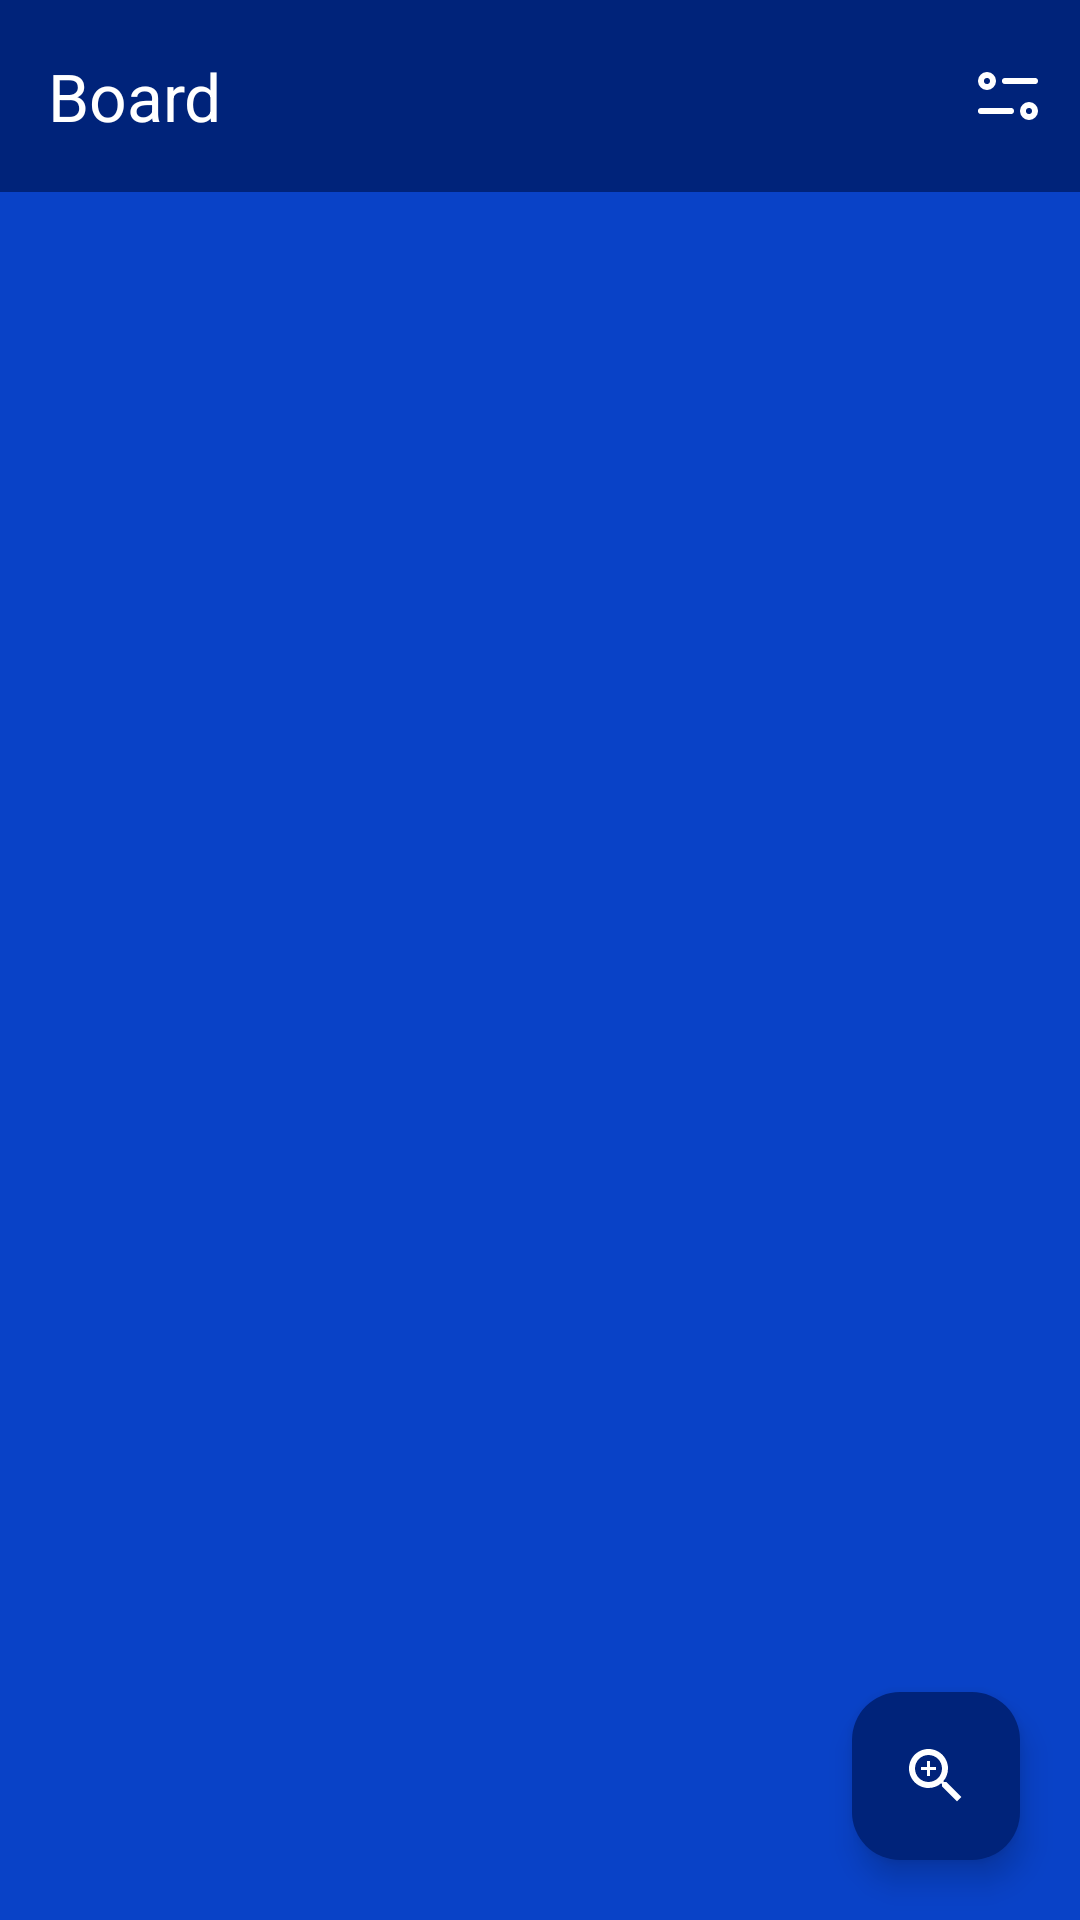

Icon bounding boxes for this 1080*1920 phone screenshot, format (x1, y1, x2, y2):
zoom in: (852, 1692, 1020, 1860)
